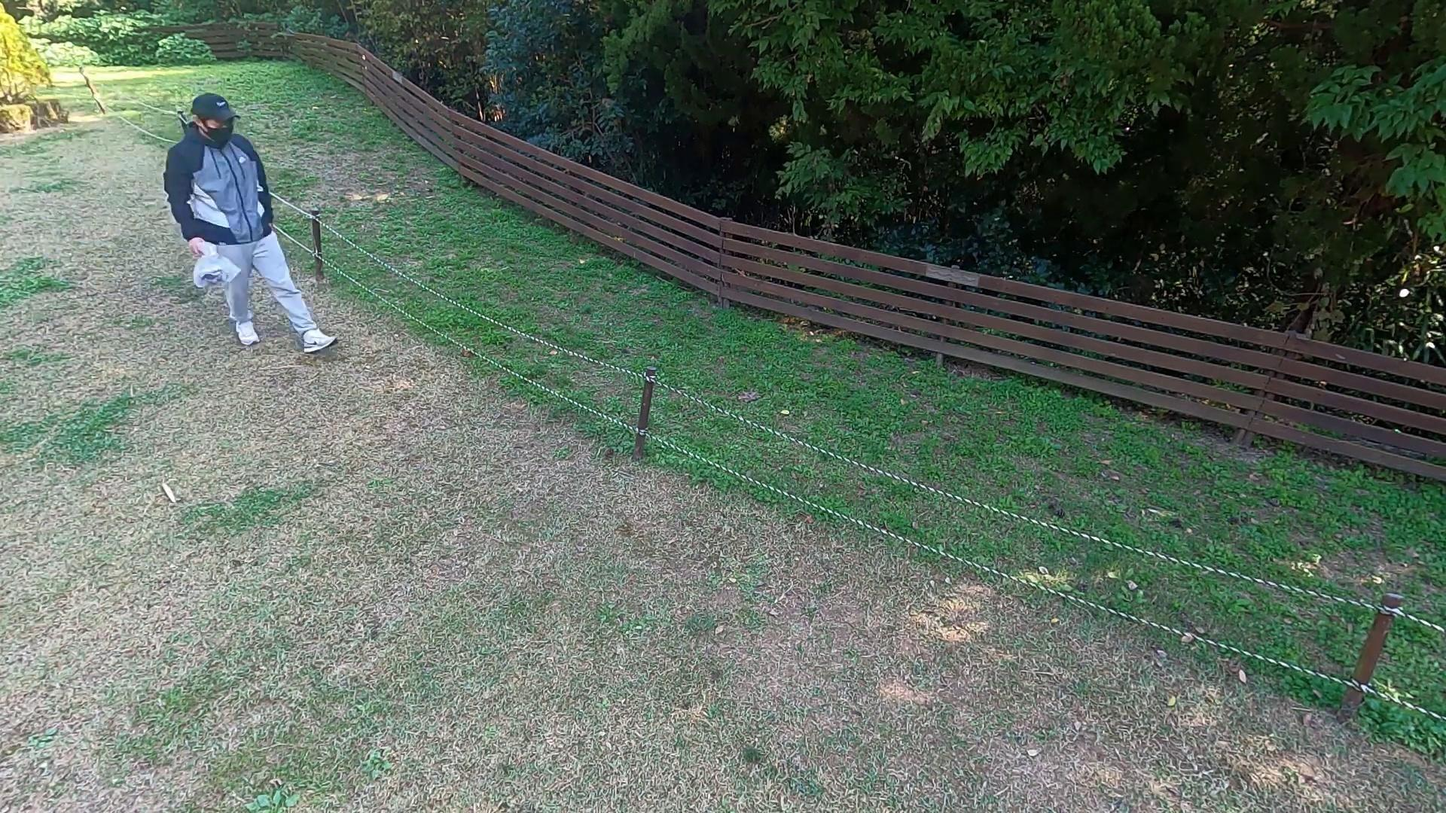person: (158, 92, 338, 359)
trash: (188, 239, 239, 289)
